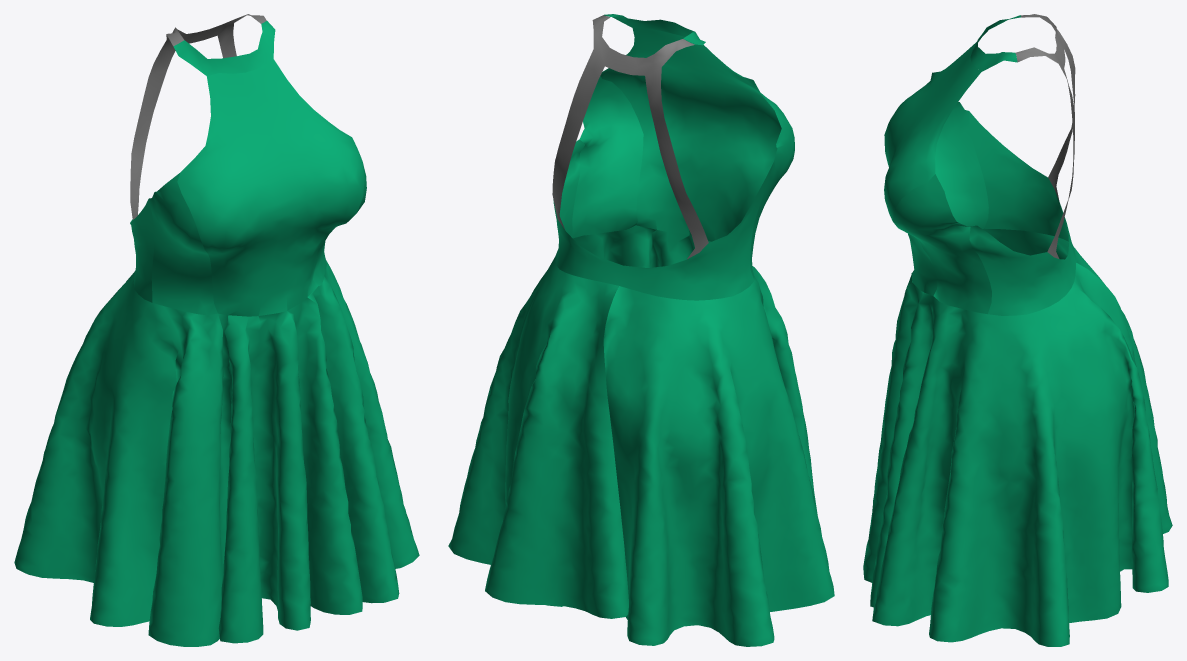
Rendered from large_greenDress_noinside3.obj.
The picture shows the model from 3 angles, left to right: view 1: azimuth 30°, elevation 25°; view 2: azimuth 150°, elevation 25°; view 3: azimuth 270°, elevation 25°; orthographic projection. The views are drawn at different scales.
Visible parts, largest first — view 1: large_greenDress_noinside:polySurface2 large_greenDress_noinside; view 2: large_greenDress_noinside:polySurface2 large_greenDress_noinside; view 3: large_greenDress_noinside:polySurface2 large_greenDress_noinside.
Boxes of the visible parts, x1,y1,x2,y2 form: large_greenDress_noinside:polySurface2 large_greenDress_noinside: (14,14,419,646); large_greenDress_noinside:polySurface2 large_greenDress_noinside: (448,14,834,646); large_greenDress_noinside:polySurface2 large_greenDress_noinside: (863,14,1172,646).
Size of the model in its own units: 5.44 by 8.54 by 4.35.
7 materials, 6 textured.
